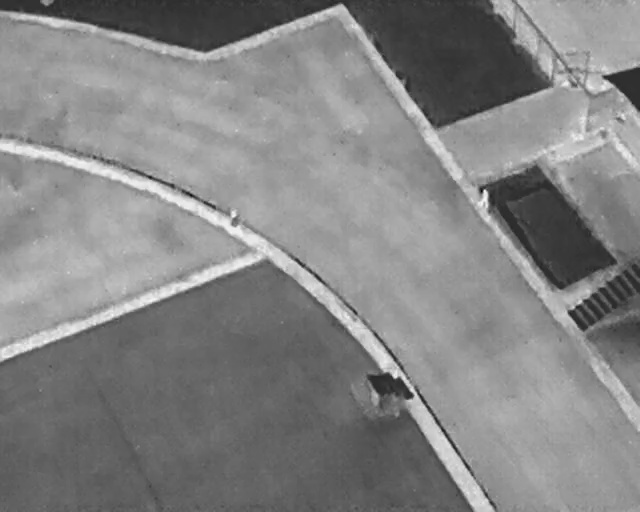Person: (227, 207, 241, 232), (479, 188, 490, 211)
